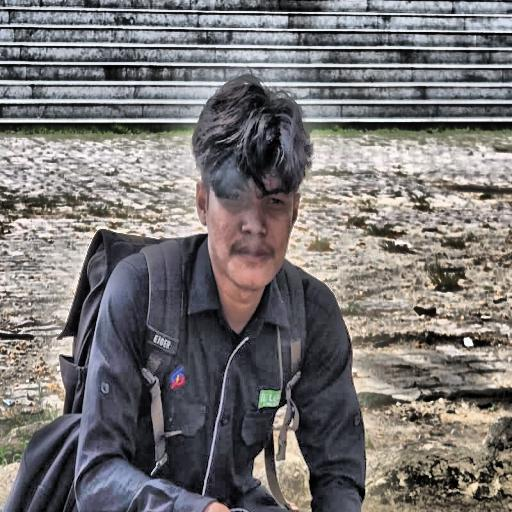Merokok: (196, 182, 299, 333)
